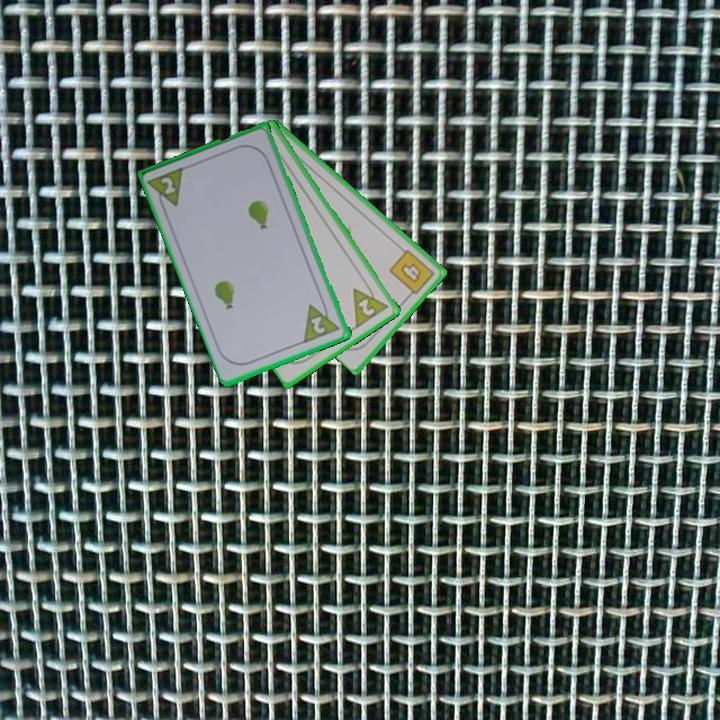2p: (349, 278, 392, 331), (300, 296, 344, 346), (145, 163, 188, 214)
4b: (385, 246, 438, 301)
